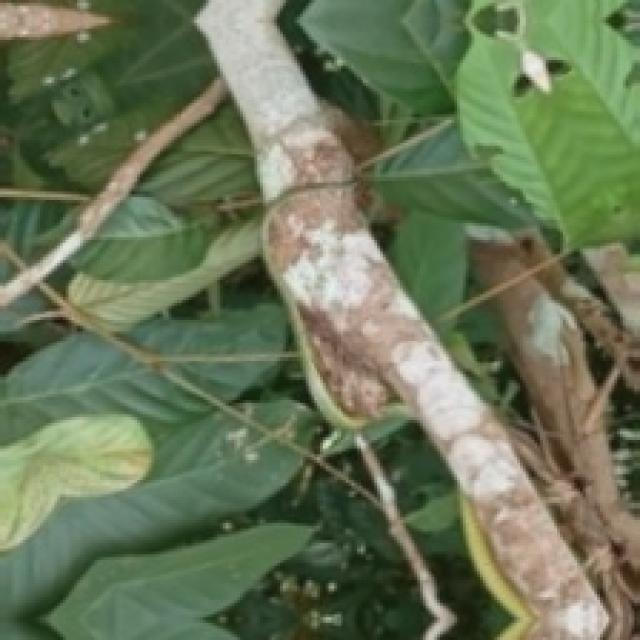paradise tree snake: (197, 0, 606, 637)
